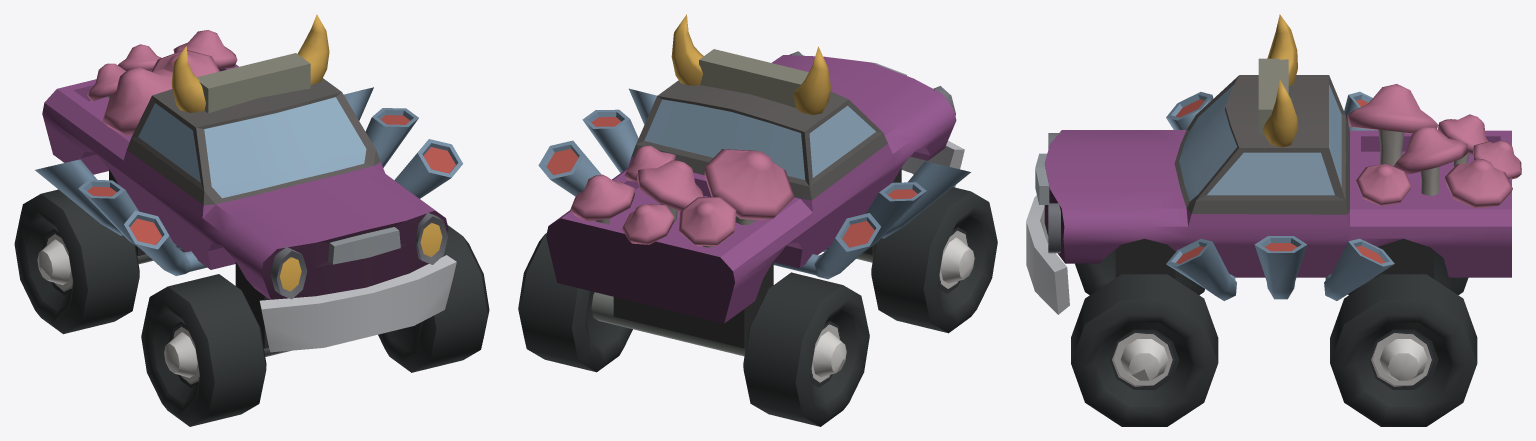
Rendered from Poison_Fire_Jeep.fbx.
3 renders of one model, left to right at view 1: azimuth 30°, elevation 25°; view 2: azimuth 150°, elevation 25°; view 3: azimuth 270°, elevation 25°, orthographic. The views are drawn at different scales.
Parts seen in each view (by area): view 1: polySurface94, polySurface96, polySurface95; view 2: polySurface94, polySurface95, polySurface96; view 3: polySurface94, polySurface96, polySurface95.
Boxes of the visible parts, x1,y1,x2,y2 form: polySurface94: [35, 14, 462, 352]; polySurface96: [141, 225, 489, 426]; polySurface95: [14, 189, 185, 334]; polySurface94: [538, 14, 970, 348]; polySurface95: [518, 233, 869, 426]; polySurface96: [856, 187, 997, 333]; polySurface94: [1026, 14, 1521, 314]; polySurface96: [1071, 249, 1218, 426]; polySurface95: [1330, 250, 1477, 426].
Bounding box in the file's own units: 8.51 × 7.6 × 10.88.
